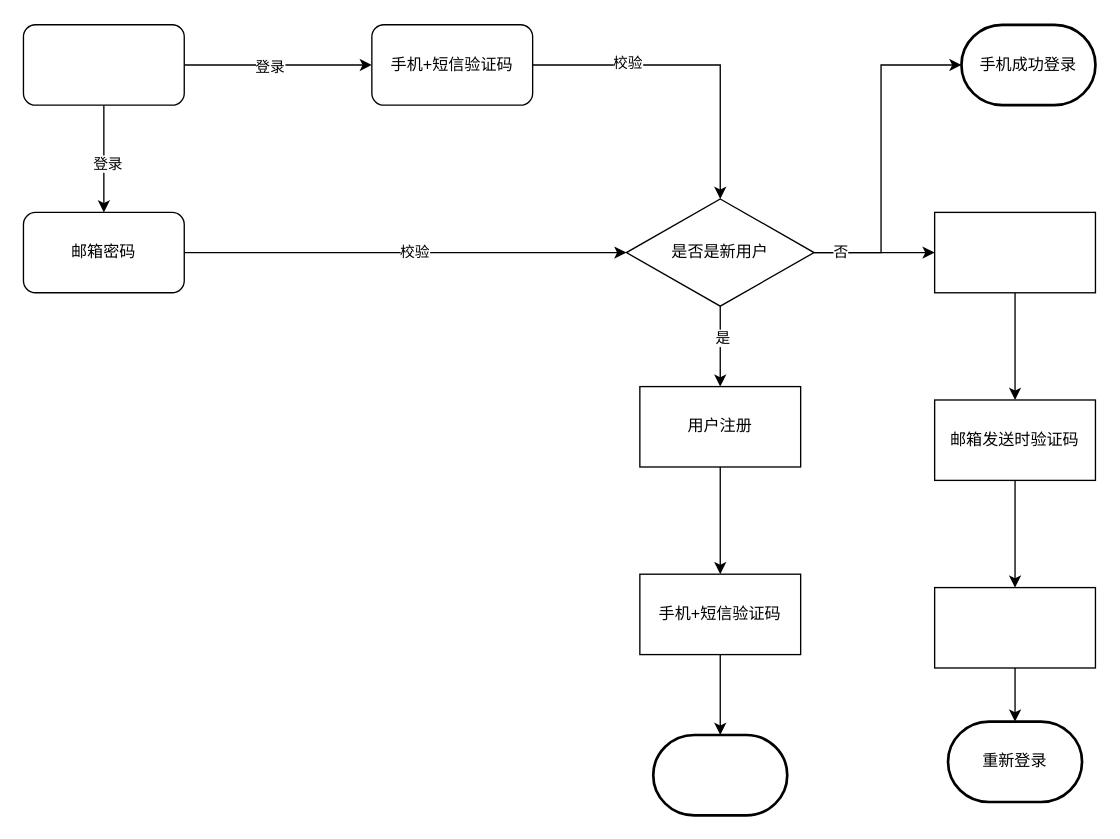
This 1120x839 diagram has some shape labels left out. Each missing label, with the centre of its shape:
"成功登录" belongs at [719,774].
"用户" belongs at [103,64].
"设置密码" belongs at [1014,627].
"邮箱登录时忘记密码" belongs at [1014,252].
